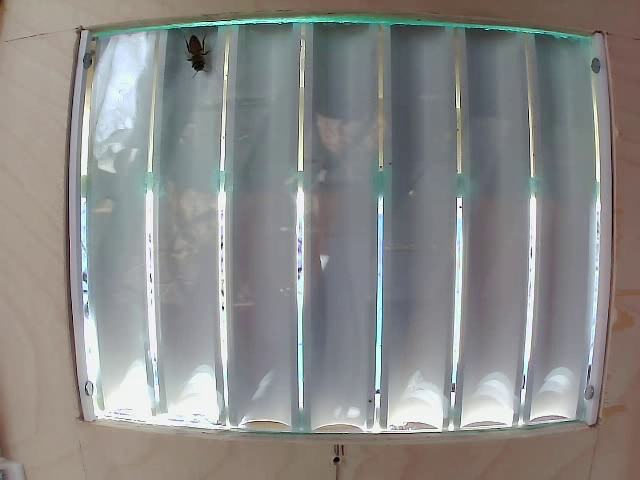bee: (186, 35, 224, 93)
